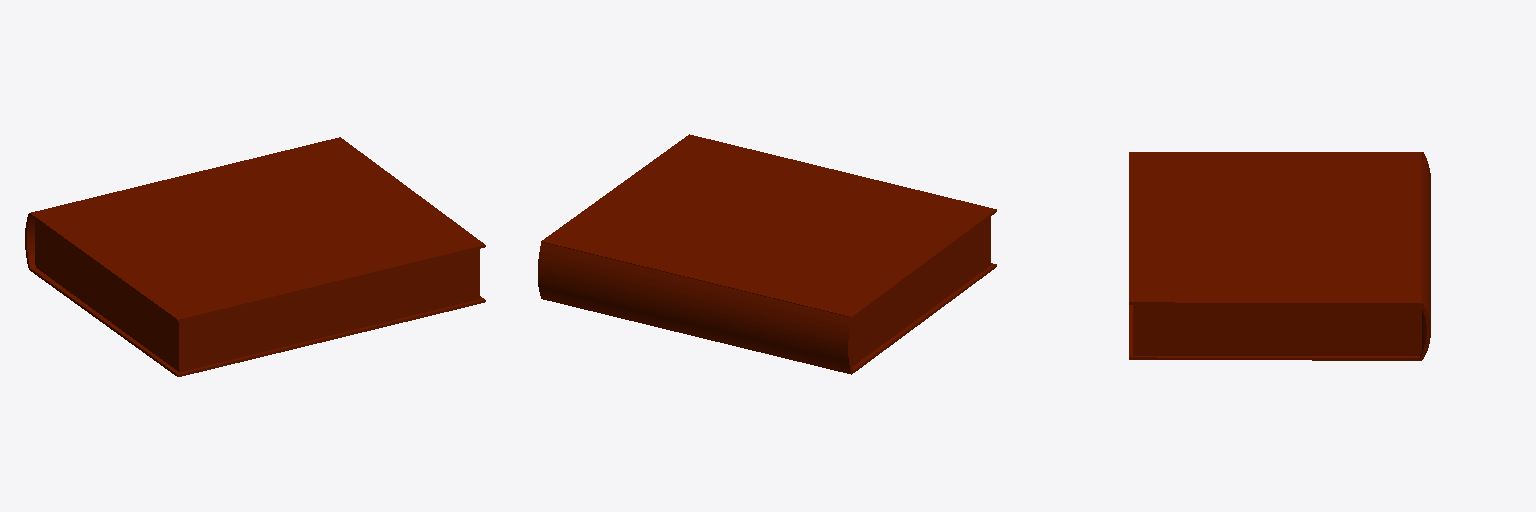
File: Book.obj
The picture shows the model from 3 angles: view 1: azimuth 30°, elevation 25°; view 2: azimuth 150°, elevation 25°; view 3: azimuth 270°, elevation 25°; orthographic projection.
Visible parts, largest first — view 1: Book; view 2: Book; view 3: Book.
Part boxes in pixels (x1,y1,x2,y2): Book: (25,137,485,376); Book: (538,134,996,374); Book: (1129,152,1430,360).
Size of the model in its own units: 48.92 by 8.66 by 41.09.